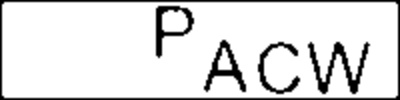A: (200, 37, 250, 94)
C: (258, 39, 301, 97)
P: (151, 3, 197, 61)
W: (306, 38, 376, 100)
